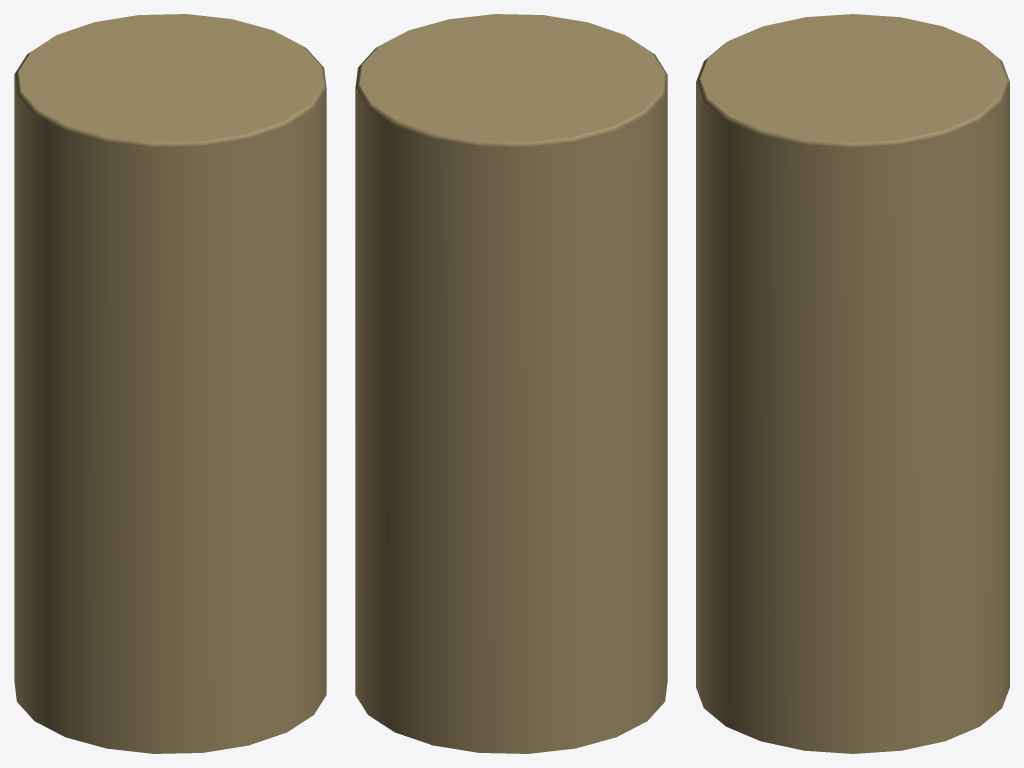
File: G_Metal_010.fbx
3 renders of one model, left to right at view 1: azimuth 30°, elevation 25°; view 2: azimuth 150°, elevation 25°; view 3: azimuth 270°, elevation 25°, orthographic.
Visible parts, largest first — view 1: G_Metal_010; view 2: G_Metal_010; view 3: G_Metal_010.
Boxes of the visible parts, x1,y1,x2,y2 form: G_Metal_010: [14, 14, 326, 753]; G_Metal_010: [355, 14, 667, 753]; G_Metal_010: [696, 14, 1009, 753].
Size of the model in its own units: 6.94 by 14.9 by 6.94.
